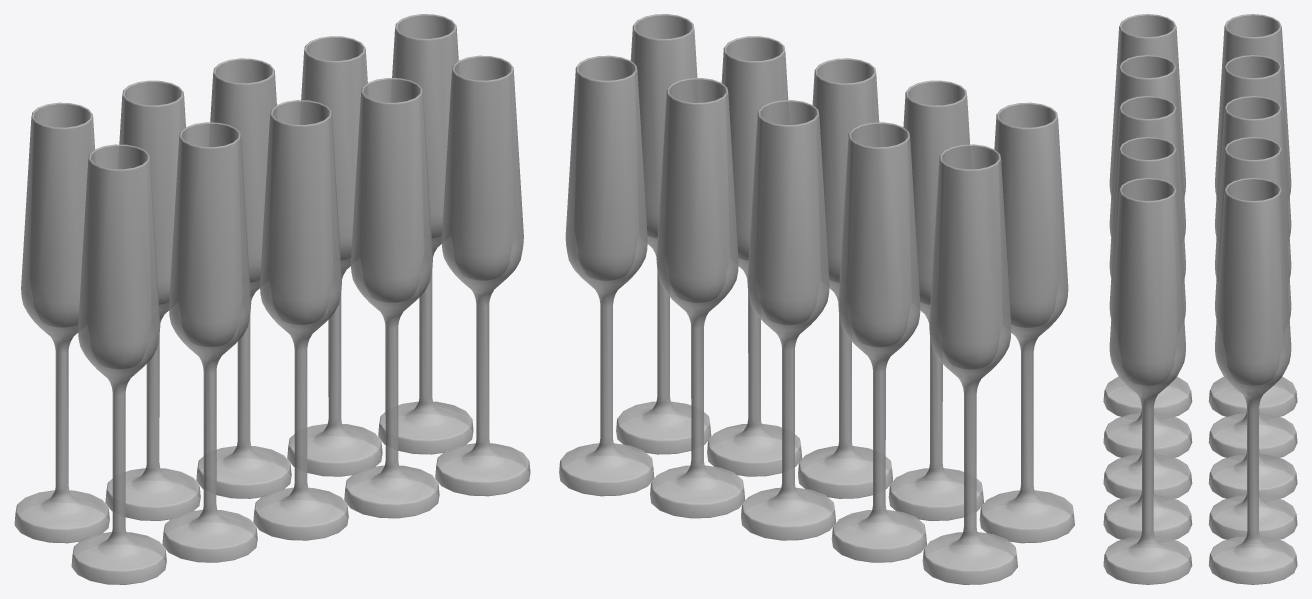
The model's file is champagneglasses_edited.gltf.
The picture shows the model from 3 angles, left to right: view 1: azimuth 30°, elevation 25°; view 2: azimuth 150°, elevation 25°; view 3: azimuth 270°, elevation 25°; orthographic projection. The views are drawn at different scales.
Parts seen in each view (by area): view 1: PM3D_Cylinder3D6; view 2: PM3D_Cylinder3D6; view 3: PM3D_Cylinder3D6.
Boxes of the visible parts, x1=… form: PM3D_Cylinder3D6: x1=14, y1=14, x2=530, y2=584; PM3D_Cylinder3D6: x1=559, y1=14, x2=1074, y2=584; PM3D_Cylinder3D6: x1=1103, y1=14, x2=1297, y2=584.
Size of the model in its own units: 0.1789 by 0.1561 by 0.0728.
1 material, 1 textured.
